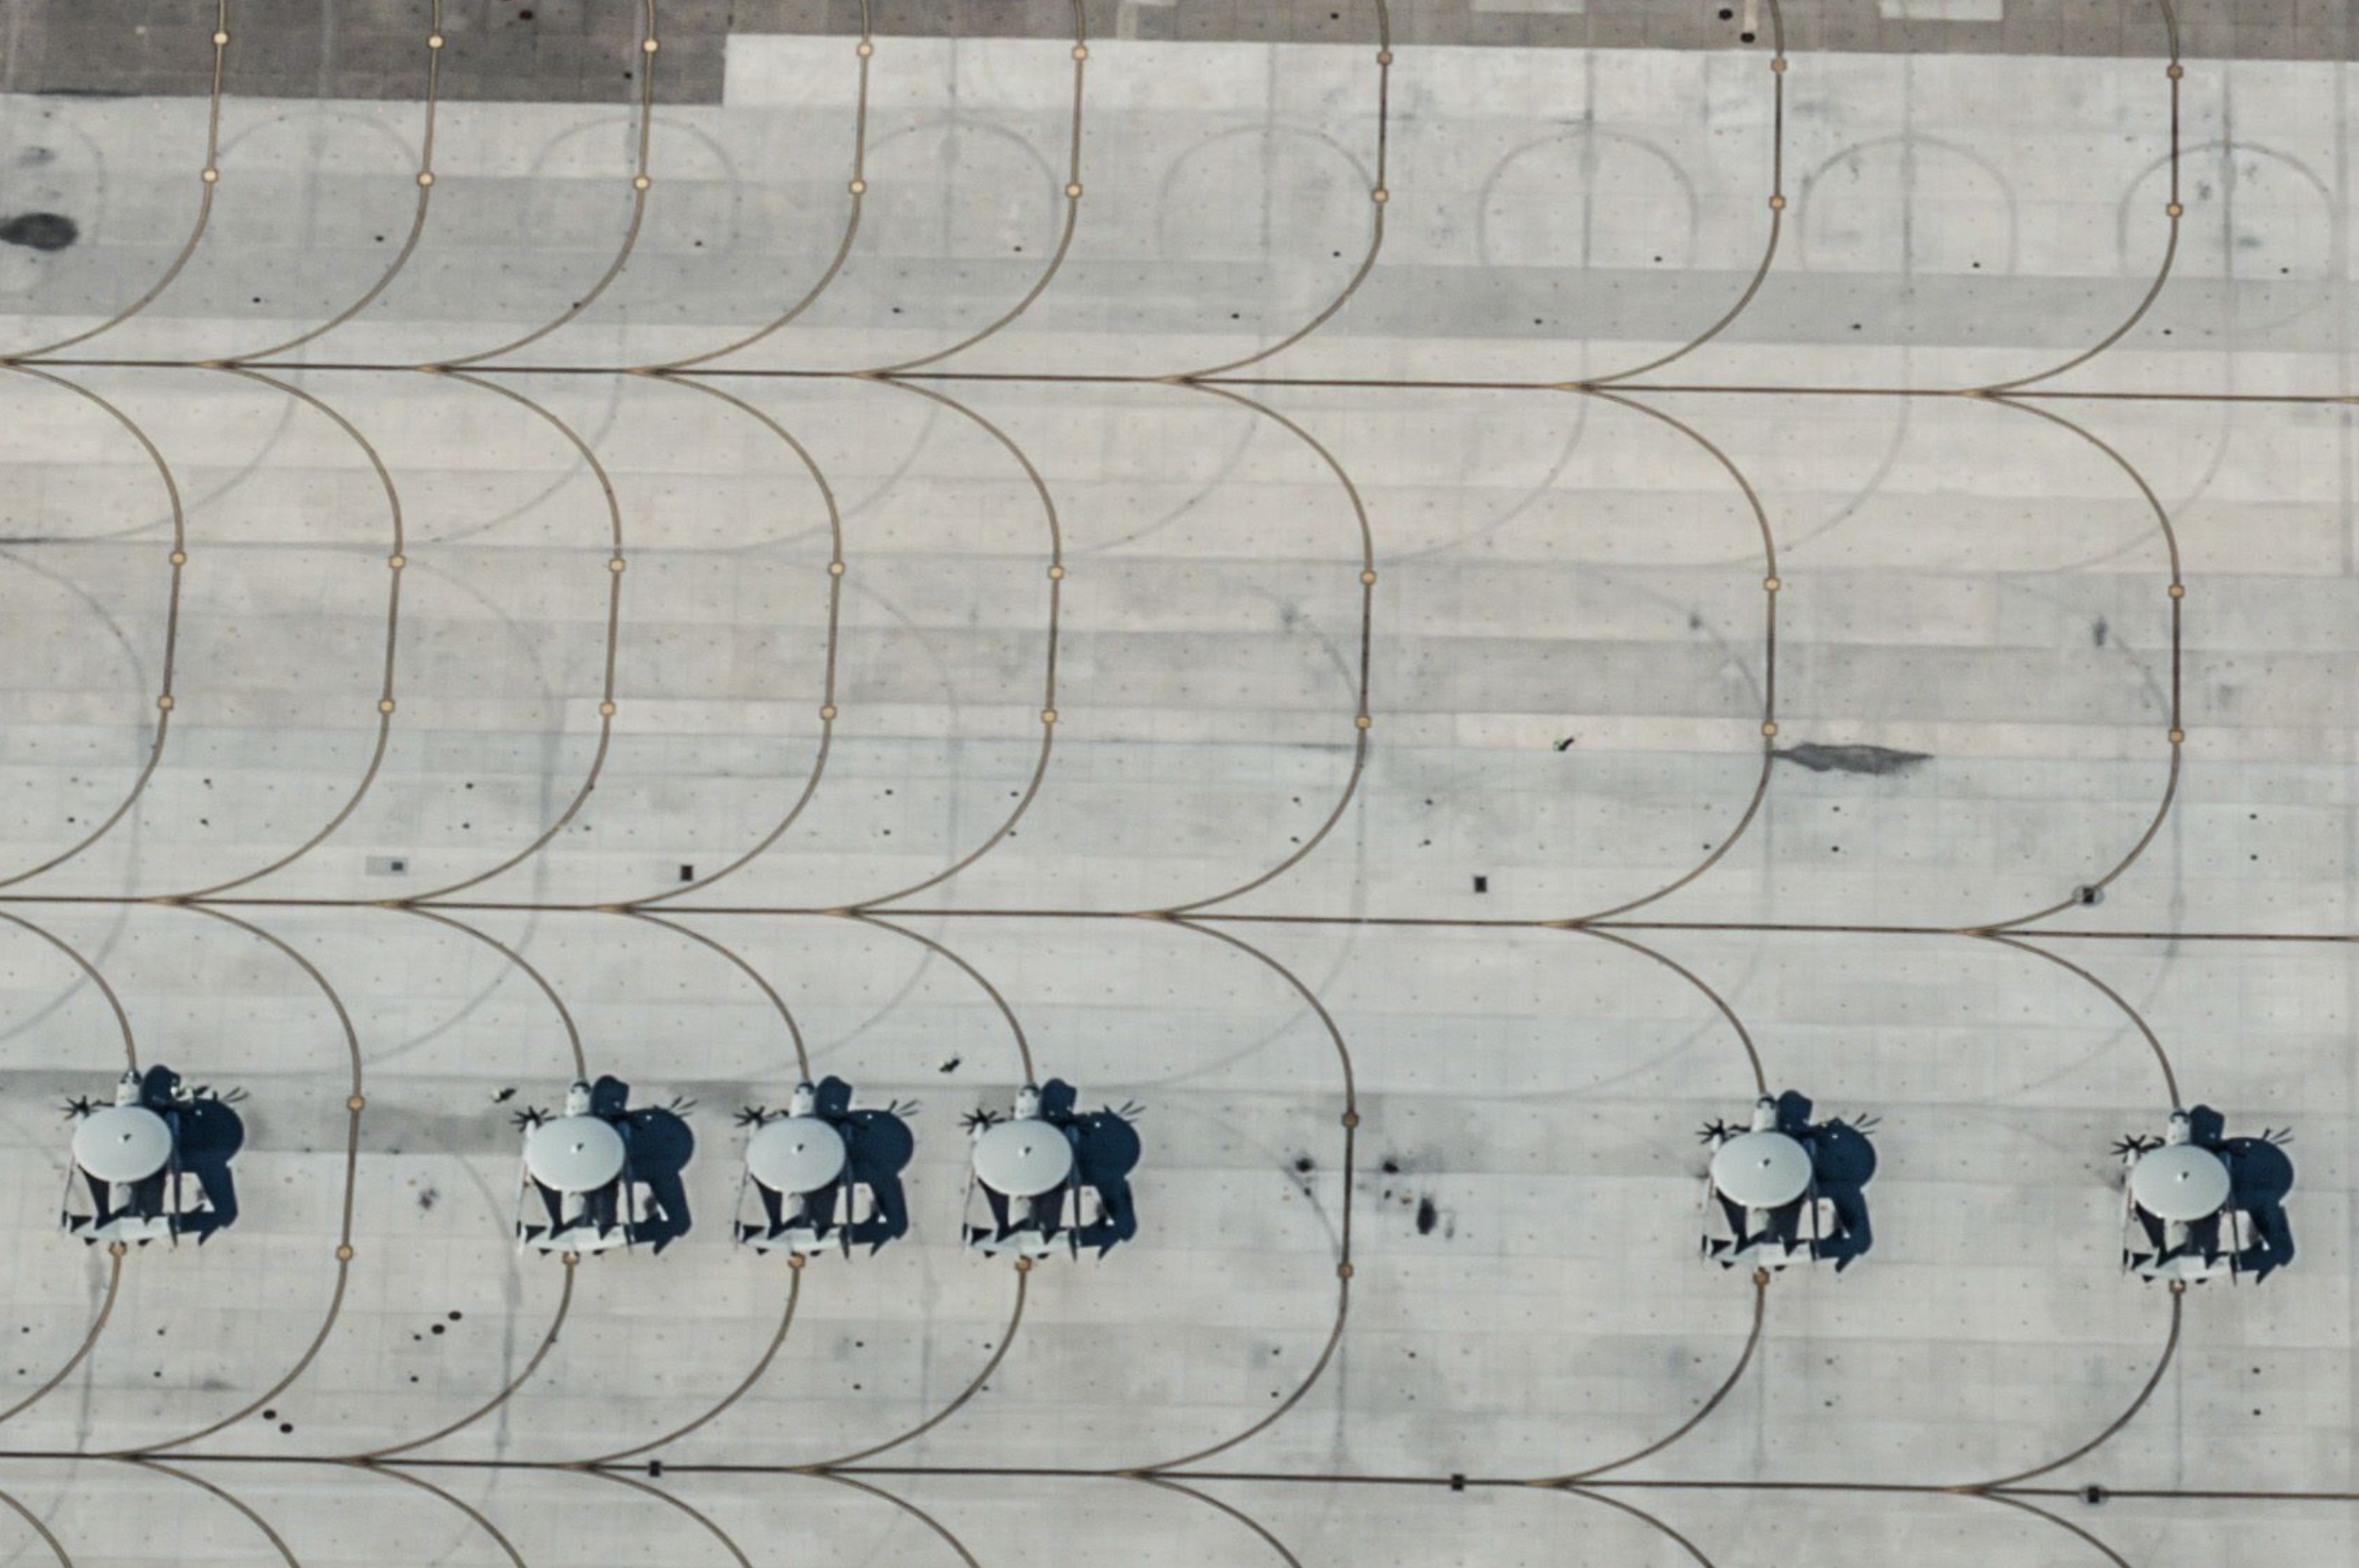E2: (54, 1066, 203, 1248), (955, 1078, 1097, 1263), (1692, 1090, 1832, 1274), (731, 1078, 871, 1260), (2109, 1106, 2247, 1288), (508, 1078, 644, 1260)
